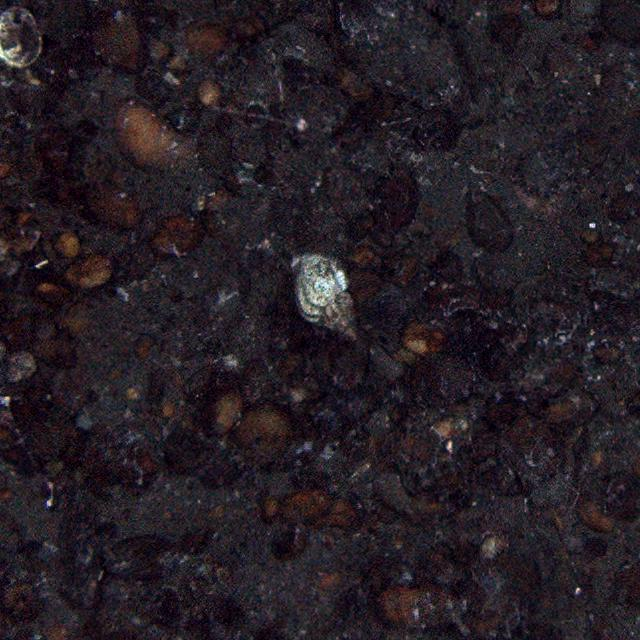whelk: (281, 246, 358, 342)
